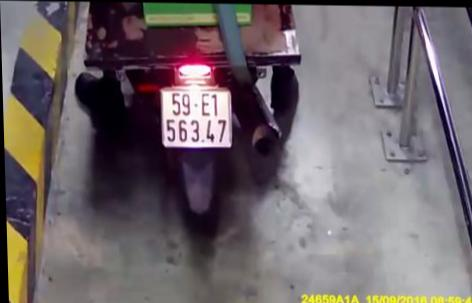LP: (157, 85, 233, 148)
